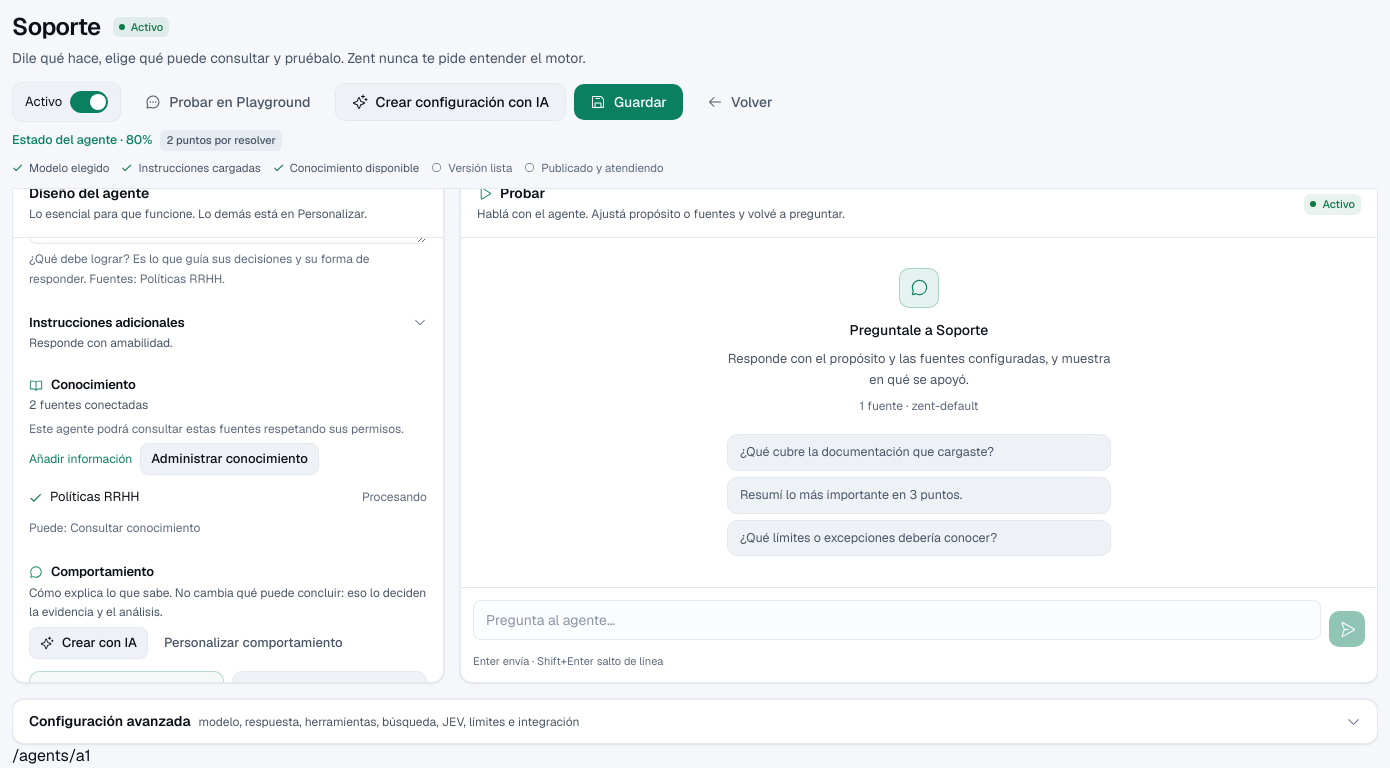
it: AgentStudio · identidad y conocimiento › avisa y limpia las fuentes guardadas que ya no existen
The width and height of the screenshot is (1390, 768).
(page scrolled)
Click the button "Administrar conocimiento". click: (230, 459)
box: 140,443 -> 319,475
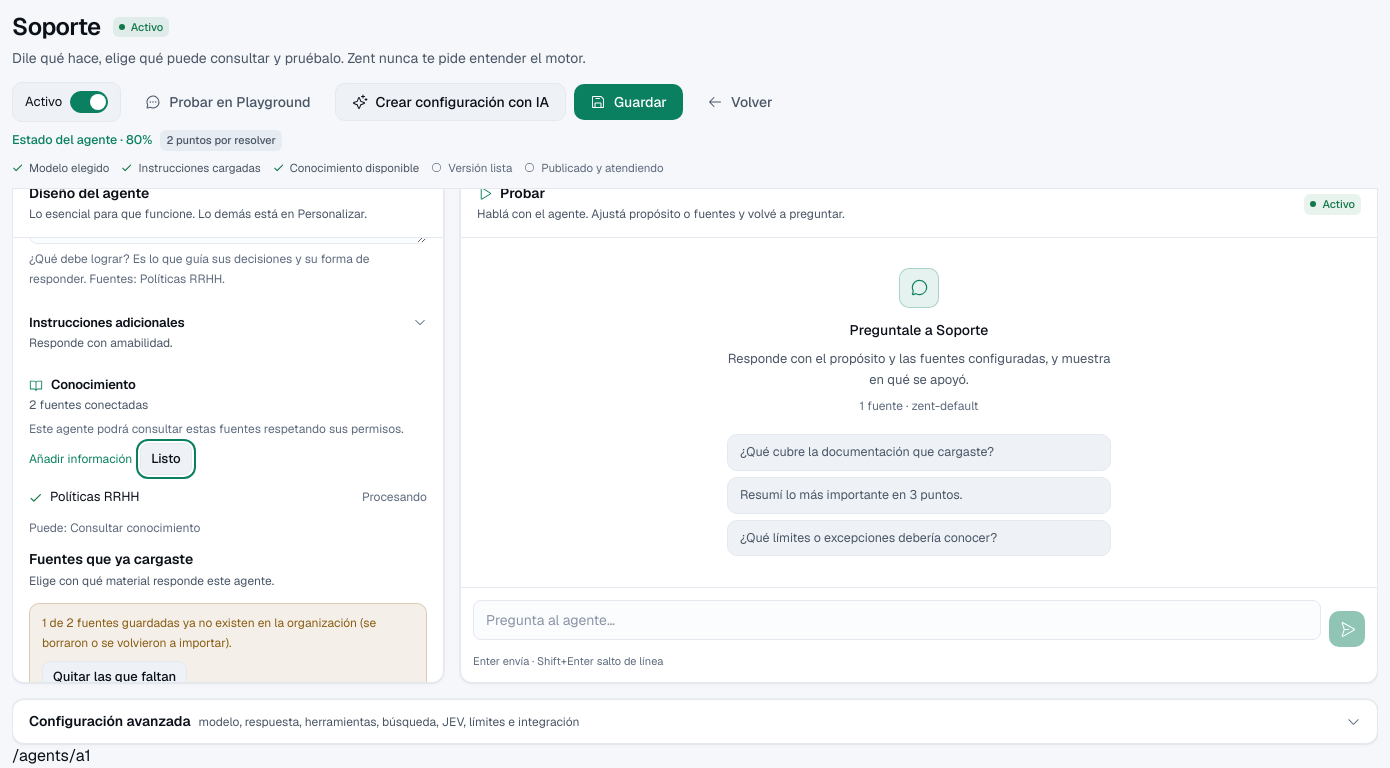
Check: the message with test id "source-missing-copy" shows "de 2 fuentes guardadas ya no existen", box 42,616 -> 376,651
Click the button "Quitar las que faltan". click: (115, 678)
box: 42,662 -> 187,694
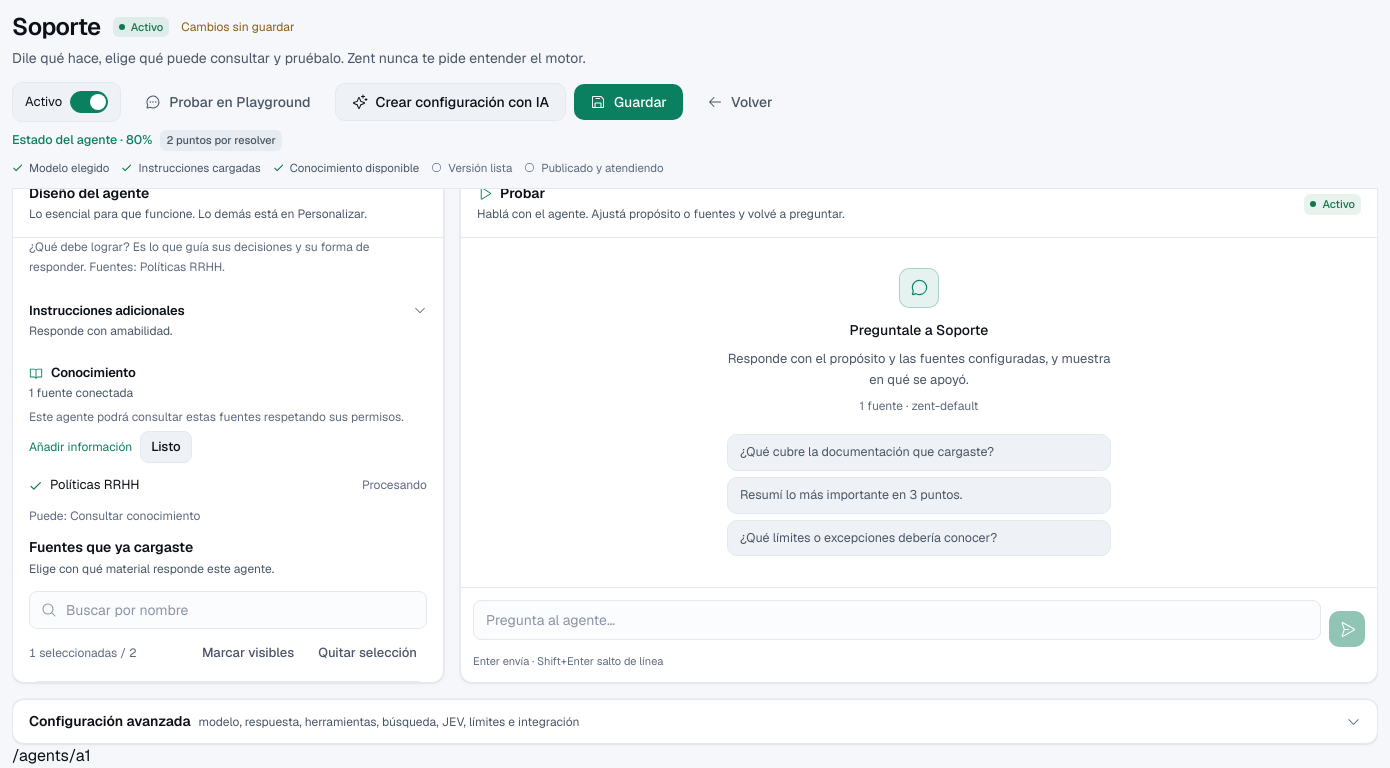
Check: the message with test id "source-missing-copy" is gone
